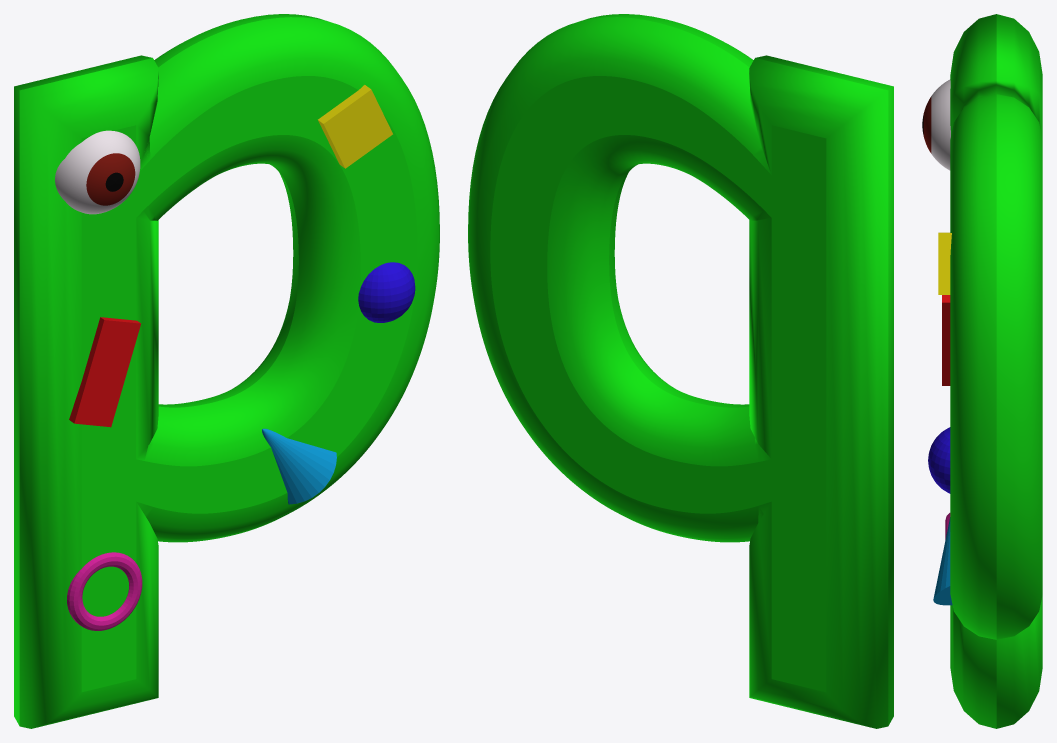
Rendered from p_green.fbx.
3 renders of one model, left to right at view 1: azimuth 30°, elevation 25°; view 2: azimuth 150°, elevation 25°; view 3: azimuth 270°, elevation 25°, orthographic.
Visible parts, largest first — view 1: Text, Sphere, Cube.001, Cube, Cone, Torus, Sphere.001; view 2: Text; view 3: Text, Sphere, Sphere.001, Cone, Cube, Cube.001.
Part boxes in pixels (x1=…): Text: x1=14, y1=14, x2=439, y2=728; Sphere: x1=55, y1=130, x2=140, y2=214; Cube.001: x1=69, y1=317, x2=140, y2=427; Cube: x1=318, y1=85, x2=392, y2=168; Cone: x1=262, y1=428, x2=336, y2=504; Torus: x1=67, y1=552, x2=142, y2=630; Sphere.001: x1=358, y1=262, x2=415, y2=322; Text: x1=468, y1=14, x2=893, y2=728; Text: x1=950, y1=14, x2=1042, y2=728; Sphere: x1=922, y1=79, x2=950, y2=170; Sphere.001: x1=928, y1=427, x2=950, y2=493; Cone: x1=933, y1=517, x2=952, y2=605; Cube: x1=938, y1=232, x2=951, y2=294; Cube.001: x1=942, y1=295, x2=950, y2=385.
Size of the model in its own units: 104 by 156 by 25.74.
